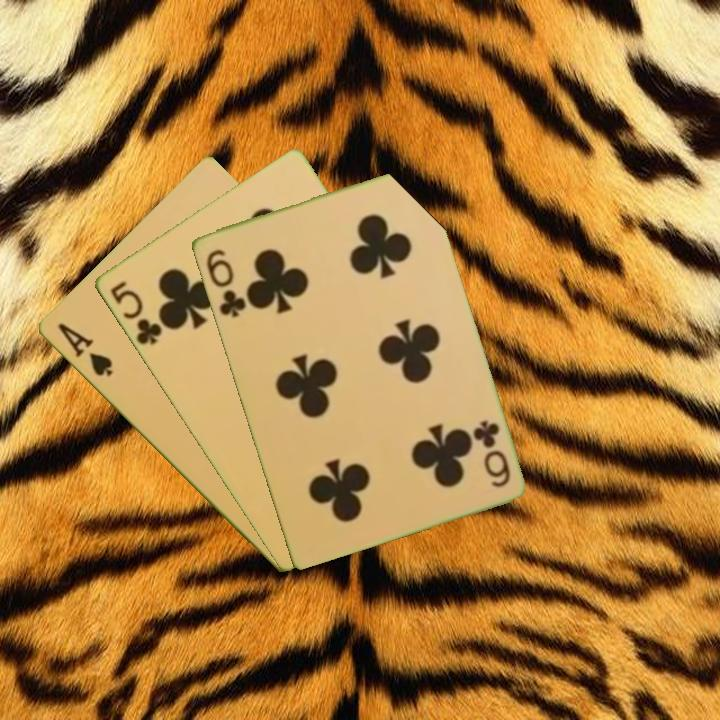5c: (105, 277, 165, 348)
6c: (202, 245, 249, 321), (469, 415, 513, 490)
As: (53, 319, 116, 380)
